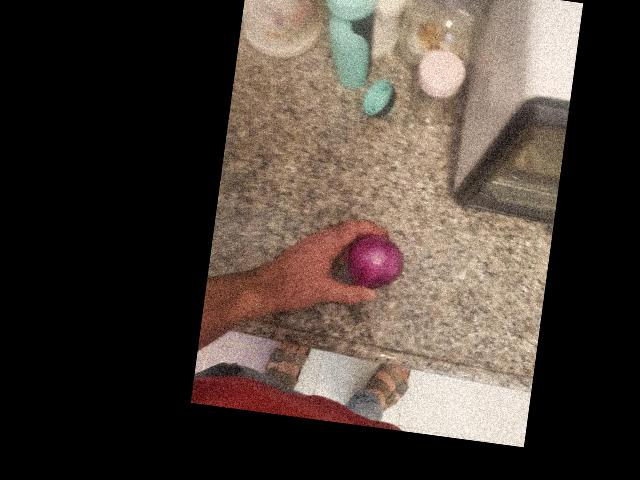onion: (479, 138, 539, 199)
